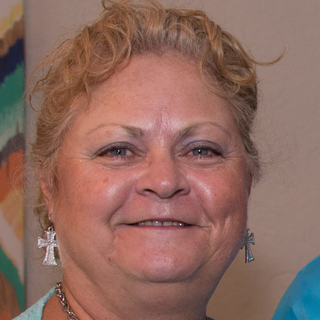eye: (88, 140, 144, 164), (174, 140, 225, 164)
